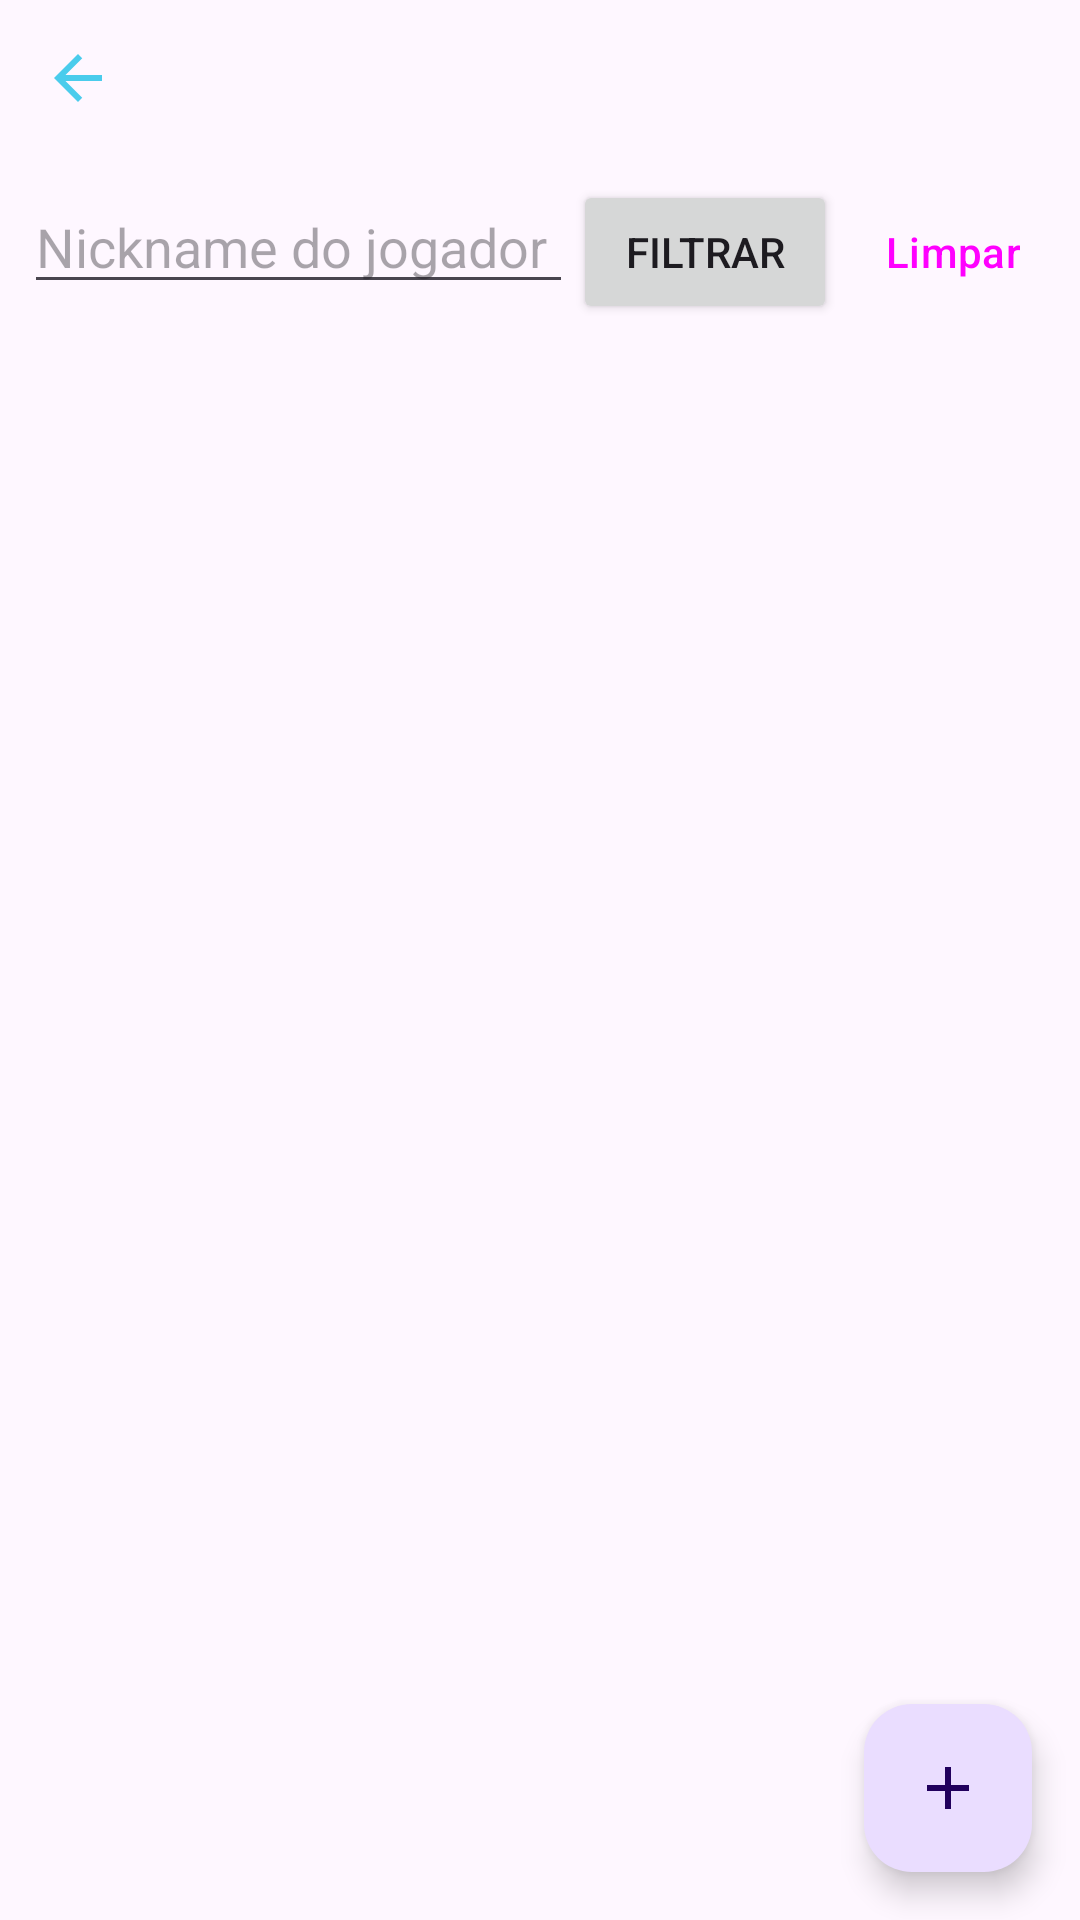

Where icons sit on this 1080x1920 app screen, as (x1, y1, x2, y2):
add: (864, 1704, 1032, 1872)
Voltar ao Menu Principal: (54, 54, 102, 102)
